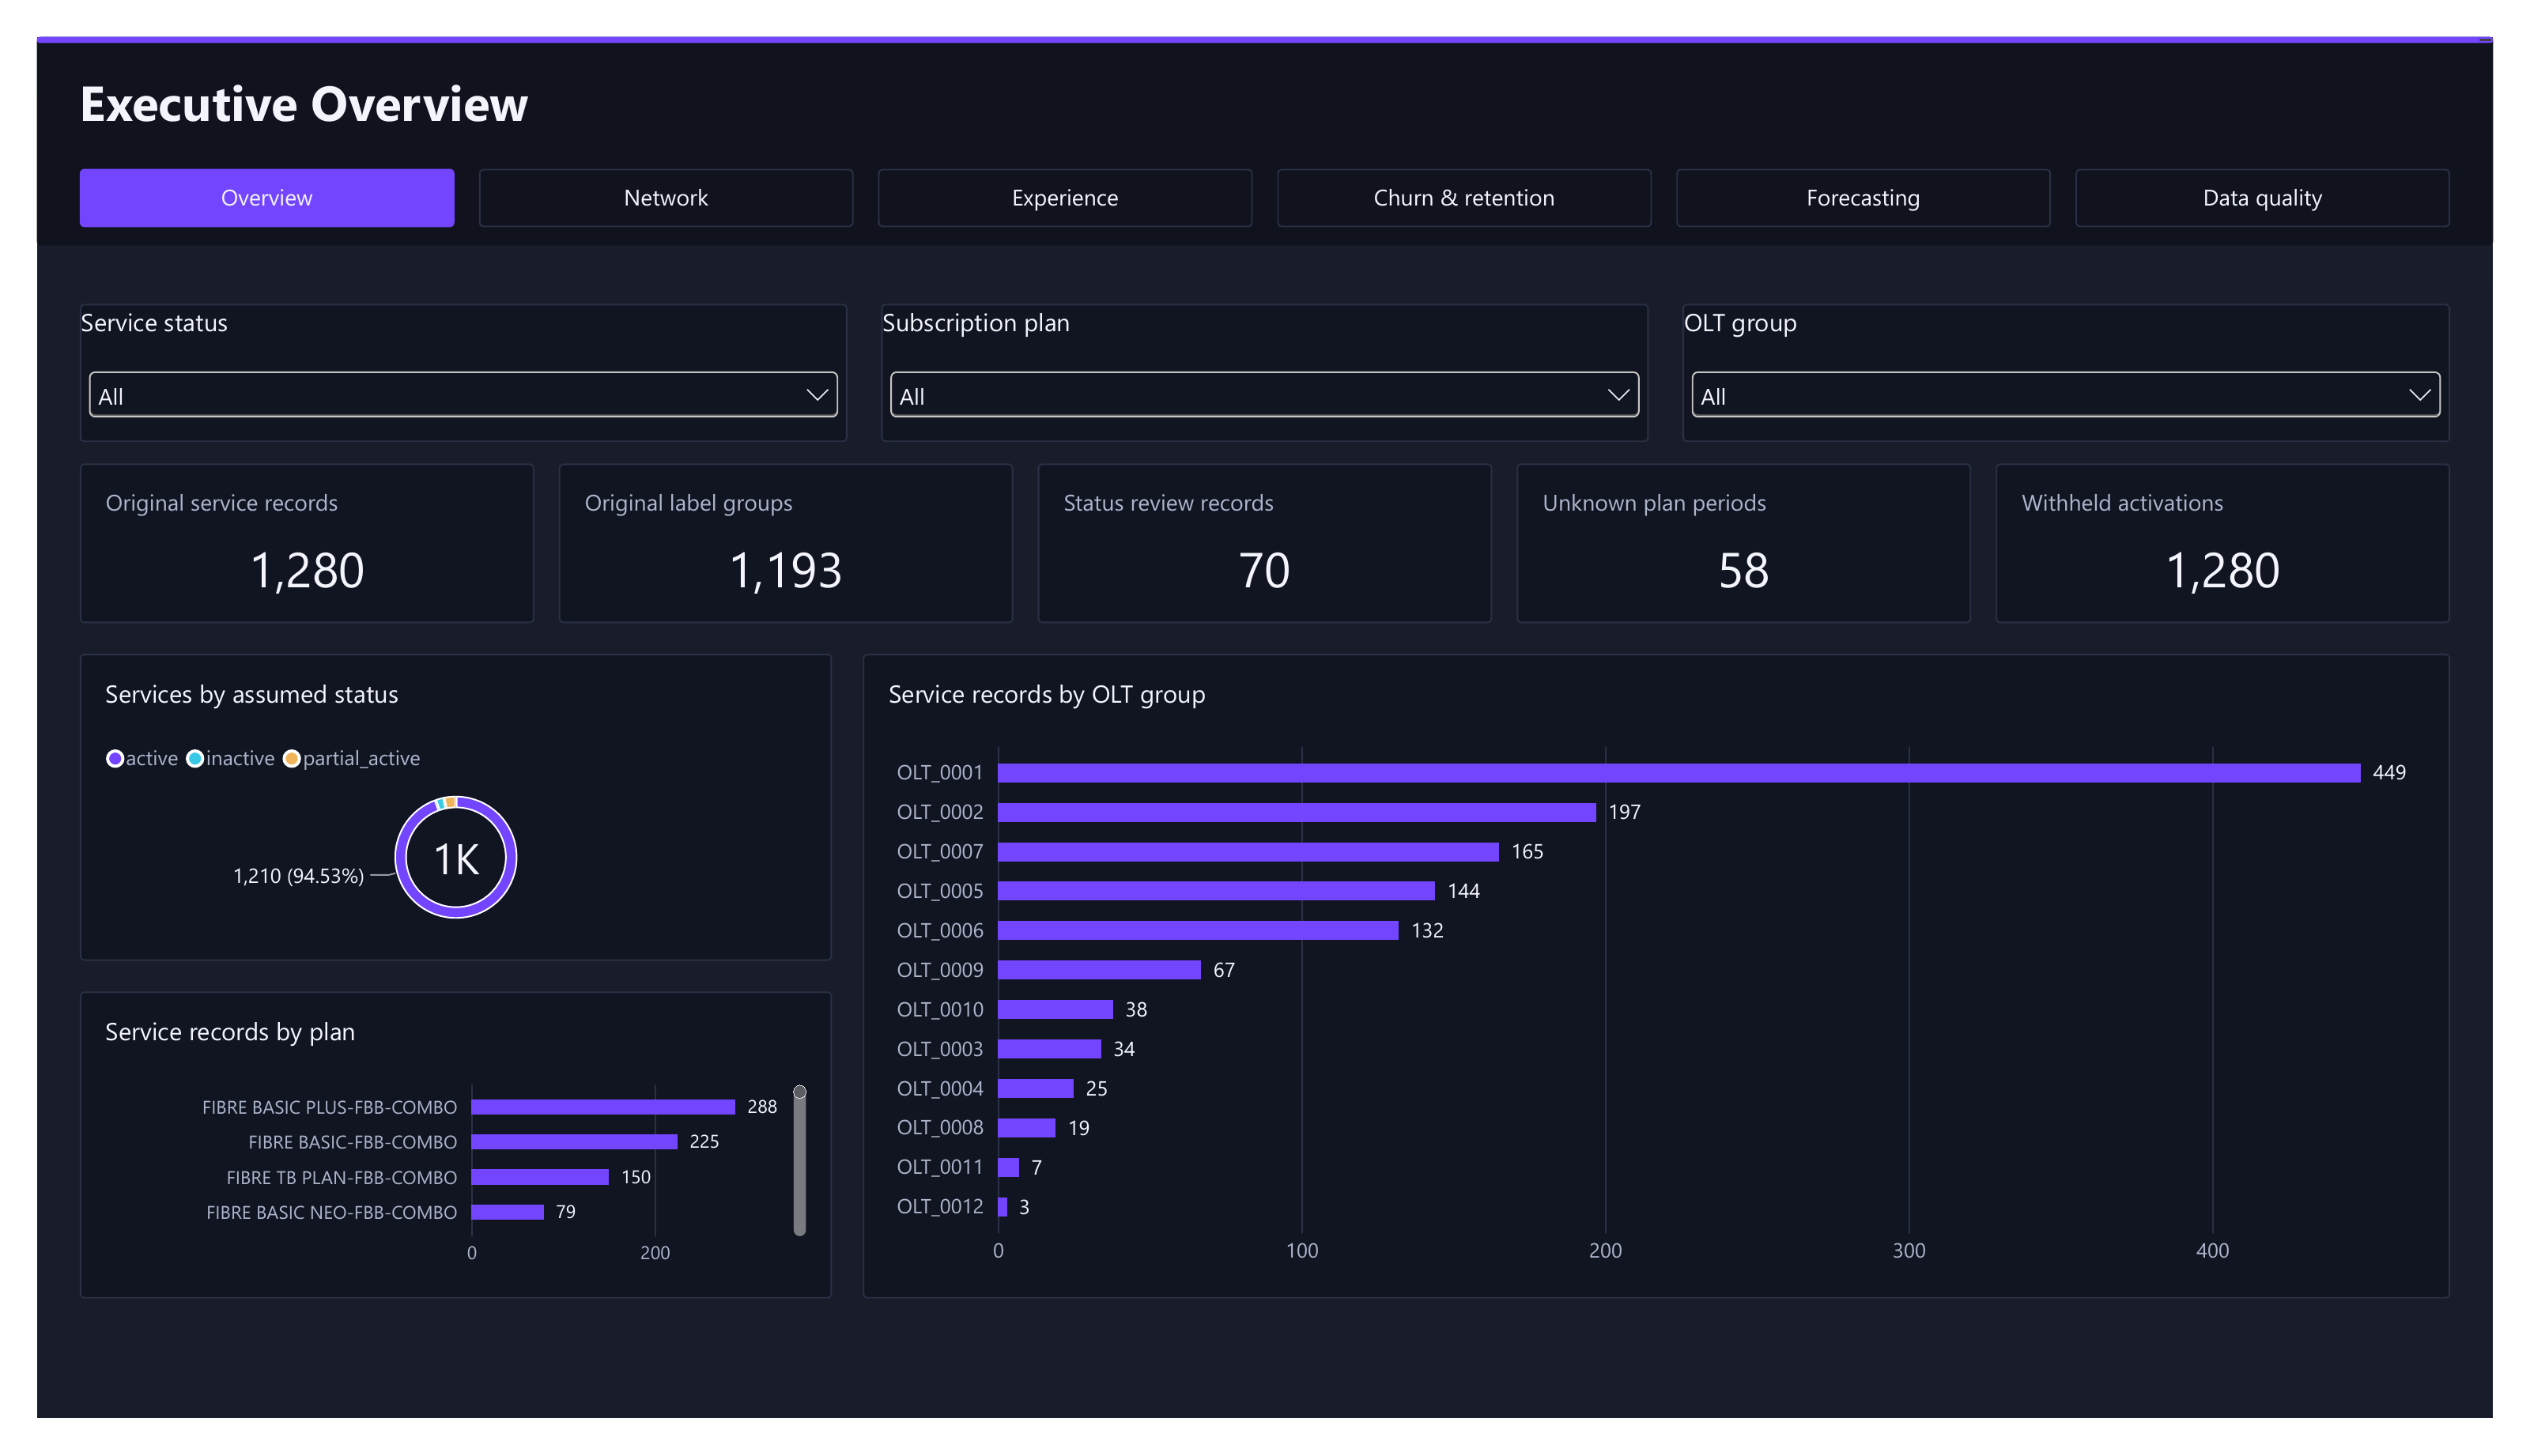

This screenshot's page, from the dashboard's own definition file:
{"tool":"powerbi","page":{"name":"Overview","canvas":[1920,1080],"ordinal":0},"visuals":[{"type":"cardVisual","fields":{"Data":["Count(OLT.customer_clean)"]},"box":[1589,140,310.8,131.7],"z":0},{"type":"cardVisual","fields":{"Data":["OLT.Active %"]},"box":[269.4,136.8,290.8,134.7],"z":1000},{"type":"cardVisual","fields":{"Data":["OLT.Partial %"]},"box":[603.1,137.9,300,130.4],"z":2000},{"type":"cardVisual","fields":{"Data":["OLT.Inactive %"]},"box":[934.5,140,304.3,130.4],"z":3000},{"type":"cardVisual","fields":{"Data":["OLT.Total Connections"]},"box":[1278.2,140,288.2,131.7],"z":4000},{"type":"donutChart","title":"Total Connections","fields":{"Category":["OLT.status"],"Y":["CountNonNull(OLT.customer)"]},"box":[269.6,347.9,664.8,424],"z":5000},{"type":"clusteredBarChart","fields":{"Category":["OLT.customer_type"],"Y":["CountNonNull(OLT.customer)"]},"box":[959.2,347.9,693.7,424],"z":6000},{"type":"listSlicer","fields":{"Values":["OLT.plan_category"]},"box":[1681.7,347.9,195.5,197.6],"z":7000},{"type":"listSlicer","fields":{"Values":["OLT.status"]},"box":[1681.7,580.4,195.5,191.4],"z":8000},{"type":"shape","box":[0,0,269.4,1079.7],"z":9000},{"type":"actionButton","box":[0,106.9,207.4,98.4],"z":10000},{"type":"actionButton","box":[0,201,239.5,100.5],"z":11000},{"type":"actionButton","box":[15,301.5,290.2,86.4],"z":12000},{"type":"actionButton","box":[17.1,406.2,211.7,81.2],"z":13000},{"type":"textbox","title":"OLT Analytics Dashboard","box":[248,29.9,1545.8,87.7],"z":14000},{"type":"cardVisual","fields":{"Data":["OLT.Key Insight"]},"box":[269.4,821,1577.9,213.8],"z":15000},{"type":"slicer","fields":{"Values":["OLT.activation date"]},"box":[1526.6,2.1,350.6,72.7],"z":16000},{"type":"image","box":[8.6,0,51.3,74.8],"z":17000}]}

Visuals, with their boxes in screenshot pixels (x1, y1, x2, y2), scaled from the page's 1920x1080 canvas onto the 2530x1456 screenshot:
cardVisual - Count(OLT.customer_clean): {"x1": 2094, "y1": 189, "x2": 2503, "y2": 366}
cardVisual - OLT.Active %: {"x1": 355, "y1": 184, "x2": 738, "y2": 366}
cardVisual - OLT.Partial %: {"x1": 795, "y1": 186, "x2": 1190, "y2": 362}
cardVisual - OLT.Inactive %: {"x1": 1232, "y1": 189, "x2": 1633, "y2": 364}
cardVisual - OLT.Total Connections: {"x1": 1684, "y1": 189, "x2": 2064, "y2": 366}
"Total Connections" donutChart: {"x1": 355, "y1": 469, "x2": 1231, "y2": 1041}
clusteredBarChart - OLT.customer_type x CountNonNull(OLT.customer): {"x1": 1264, "y1": 469, "x2": 2178, "y2": 1041}
listSlicer - OLT.plan_category: {"x1": 2216, "y1": 469, "x2": 2474, "y2": 735}
listSlicer - OLT.status: {"x1": 2216, "y1": 783, "x2": 2474, "y2": 1040}
shape: {"x1": 0, "y1": 0, "x2": 355, "y2": 1455}
actionButton: {"x1": 0, "y1": 144, "x2": 274, "y2": 277}
actionButton: {"x1": 0, "y1": 271, "x2": 315, "y2": 406}
actionButton: {"x1": 20, "y1": 406, "x2": 402, "y2": 523}
actionButton: {"x1": 23, "y1": 548, "x2": 301, "y2": 657}
"OLT Analytics Dashboard" textbox: {"x1": 327, "y1": 40, "x2": 2364, "y2": 159}
cardVisual - OLT.Key Insight: {"x1": 355, "y1": 1107, "x2": 2434, "y2": 1395}
slicer - OLT.activation date: {"x1": 2011, "y1": 3, "x2": 2474, "y2": 101}
image: {"x1": 11, "y1": 0, "x2": 79, "y2": 101}
